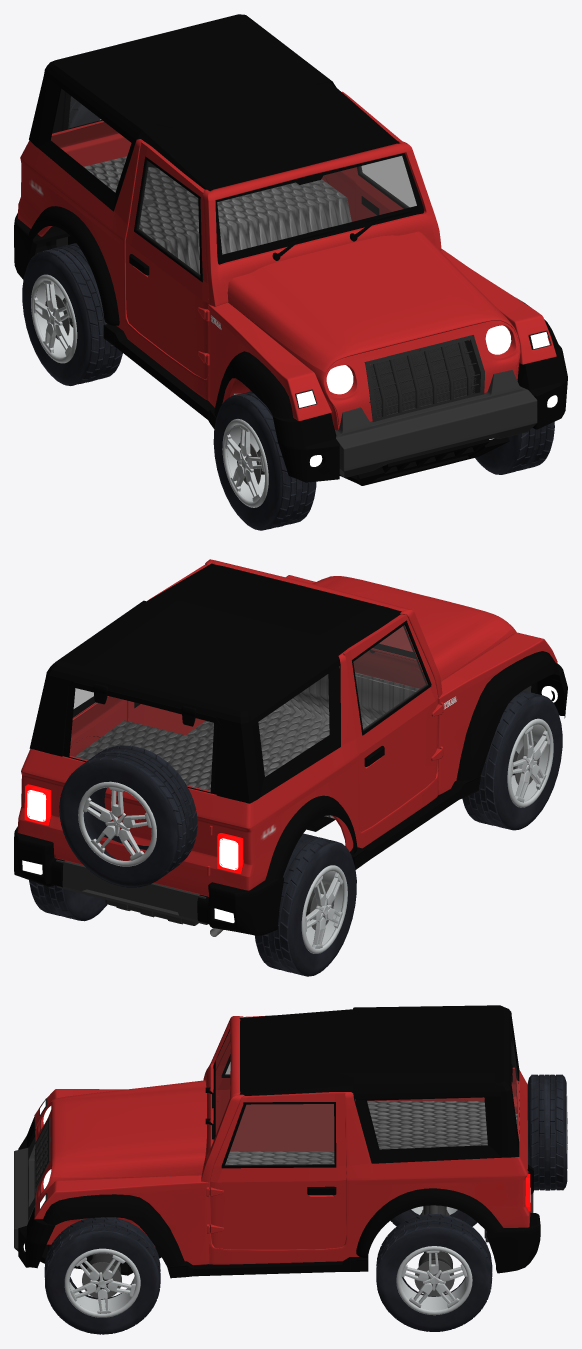
The model's file is thar.glb.
The picture shows the model from 3 angles, top to bottom: view 1: azimuth 30°, elevation 25°; view 2: azimuth 150°, elevation 25°; view 3: azimuth 270°, elevation 25°; orthographic projection. The views are drawn at different scales.
Visible parts, largest first — view 1: Object_20, Object_16, Object_39, Object_41, Object_42, Object_18, Object_33, Object_45, Object_43, Object_4, Object_47, Object_28 (+17 smaller); view 2: Object_20, Object_41, Object_33, Object_39, Object_18, Object_42, Object_47, Object_31, Object_16, Object_43, Object_4, Object_27 (+11 smaller); view 3: Object_20, Object_18, Object_41, Object_16, Object_33, Object_39, Object_42, Object_47, Object_5, Object_31, Object_43, Object_21 (+15 smaller).
Boxes of the visible parts, <box> form: Object_20: <box>29,14,399,211</box>; Object_16: <box>227,231,511,372</box>; Object_39: <box>51,89,416,276</box>; Object_41: <box>18,131,441,400</box>; Object_42: <box>84,156,351,394</box>; Object_18: <box>125,91,403,379</box>; Object_33: <box>22,96,554,529</box>; Object_45: <box>335,370,537,477</box>; Object_43: <box>14,213,567,482</box>; Object_4: <box>208,302,331,421</box>; Object_47: <box>28,176,558,418</box>; Object_28: <box>62,92,423,282</box>; Object_20: <box>29,563,404,803</box>; Object_41: <box>17,559,442,896</box>; Object_33: <box>29,691,562,975</box>; Object_39: <box>70,625,427,791</box>; Object_18: <box>127,564,443,875</box>; Object_42: <box>75,673,418,818</box>; Object_47: <box>71,651,559,879</box>; Object_31: <box>29,690,558,921</box>; Object_16: <box>312,576,512,680</box>; Object_43: <box>14,663,567,935</box>; Object_4: <box>438,632,557,794</box>; Object_27: <box>55,755,216,895</box>; Object_20: <box>239,1005,519,1163</box>; Object_18: <box>206,1015,346,1249</box>; Object_41: <box>201,1016,530,1264</box>; Object_16: <box>50,1080,206,1177</box>; Object_33: <box>44,1074,567,1333</box>; Object_39: <box>216,1032,519,1165</box>; Object_42: <box>225,1101,517,1164</box>; Object_47: <box>42,1188,503,1266</box>; Object_5: <box>34,1175,209,1265</box>; Object_31: <box>376,1074,563,1331</box>; Object_43: <box>18,1117,540,1273</box>; Object_21: <box>167,1256,368,1278</box>.
Size of the model in its own units: 14.51 by 13.63 by 28.9.
42 materials, 30 textured.
